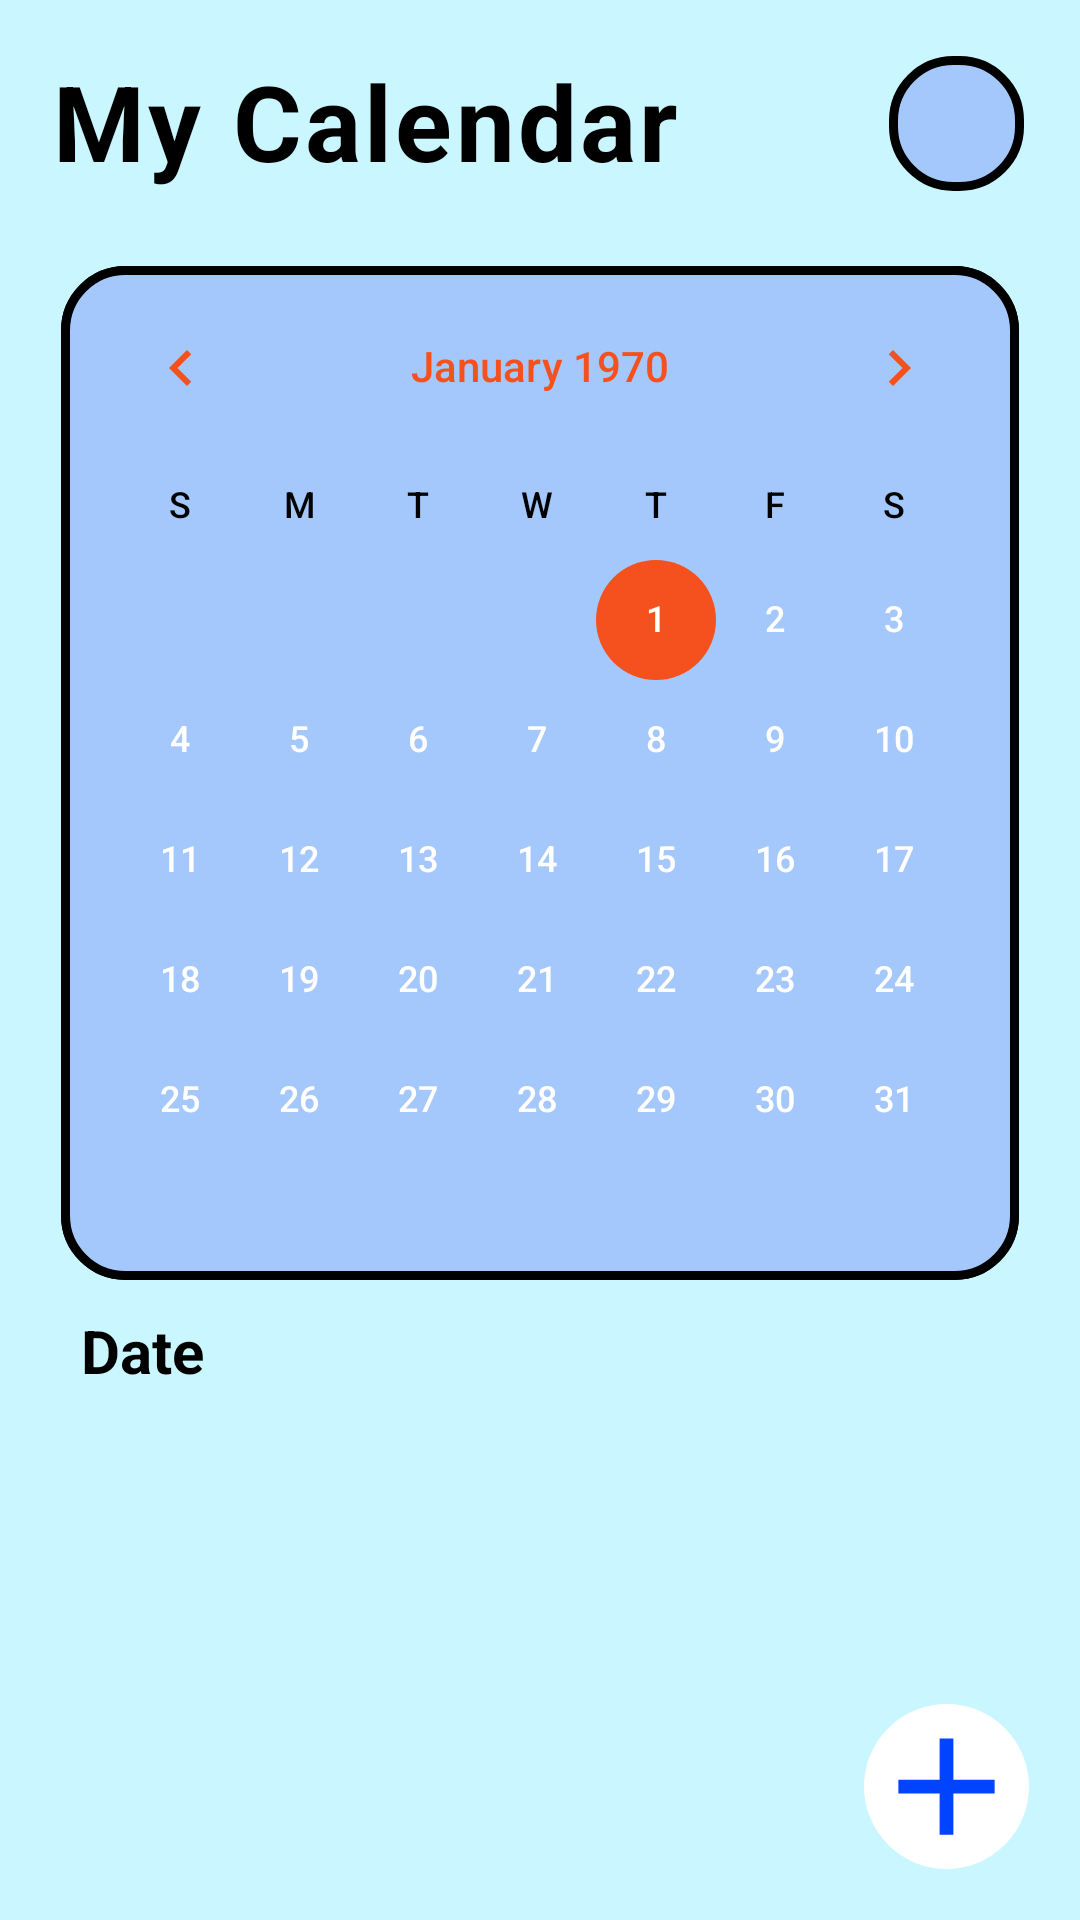

Where to tap for icons on this 1080 x 1920 app screen, as point (x, y):
Add Button: point (946, 1786)
